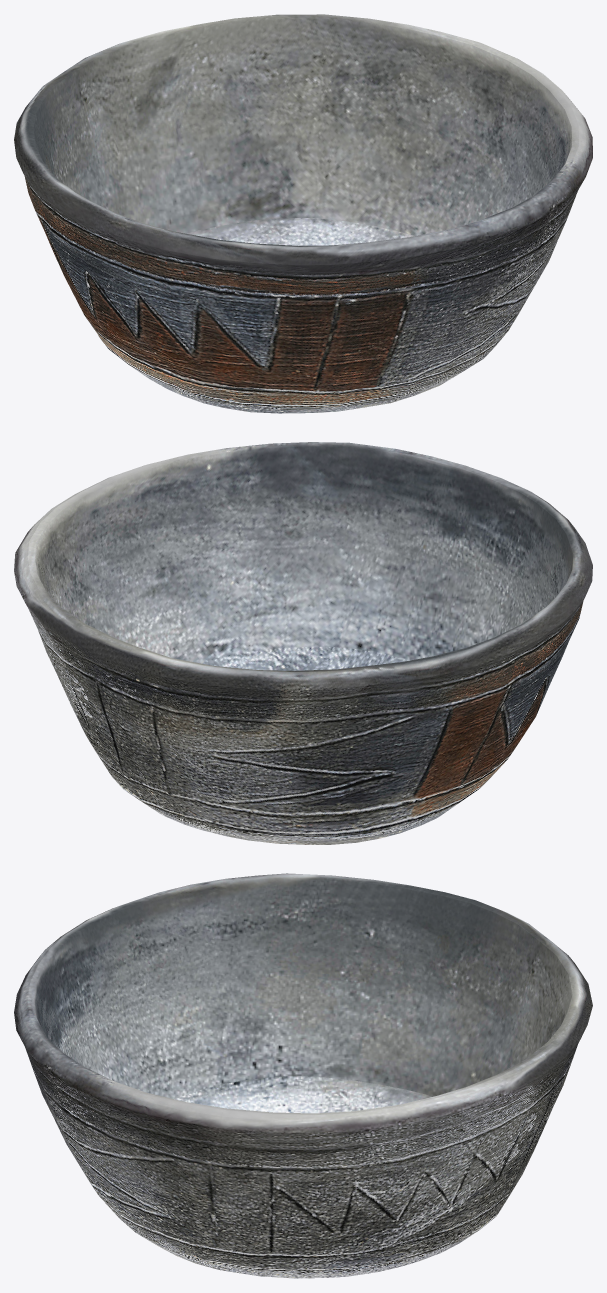
3 renders of one model, top to bottom at view 1: azimuth 30°, elevation 25°; view 2: azimuth 150°, elevation 25°; view 3: azimuth 270°, elevation 25°, orthographic.
Parts seen in each view (by area): view 1: Box001; view 2: Box001; view 3: Box001.
Boxes of the visible parts, bbox=[...] form: Box001: bbox=[14, 14, 592, 413]; Box001: bbox=[14, 442, 592, 844]; Box001: bbox=[14, 873, 592, 1278].
Bounding box in the file's own units: 154 × 69.18 × 152.
Materials: 1 (1 with a texture image).
